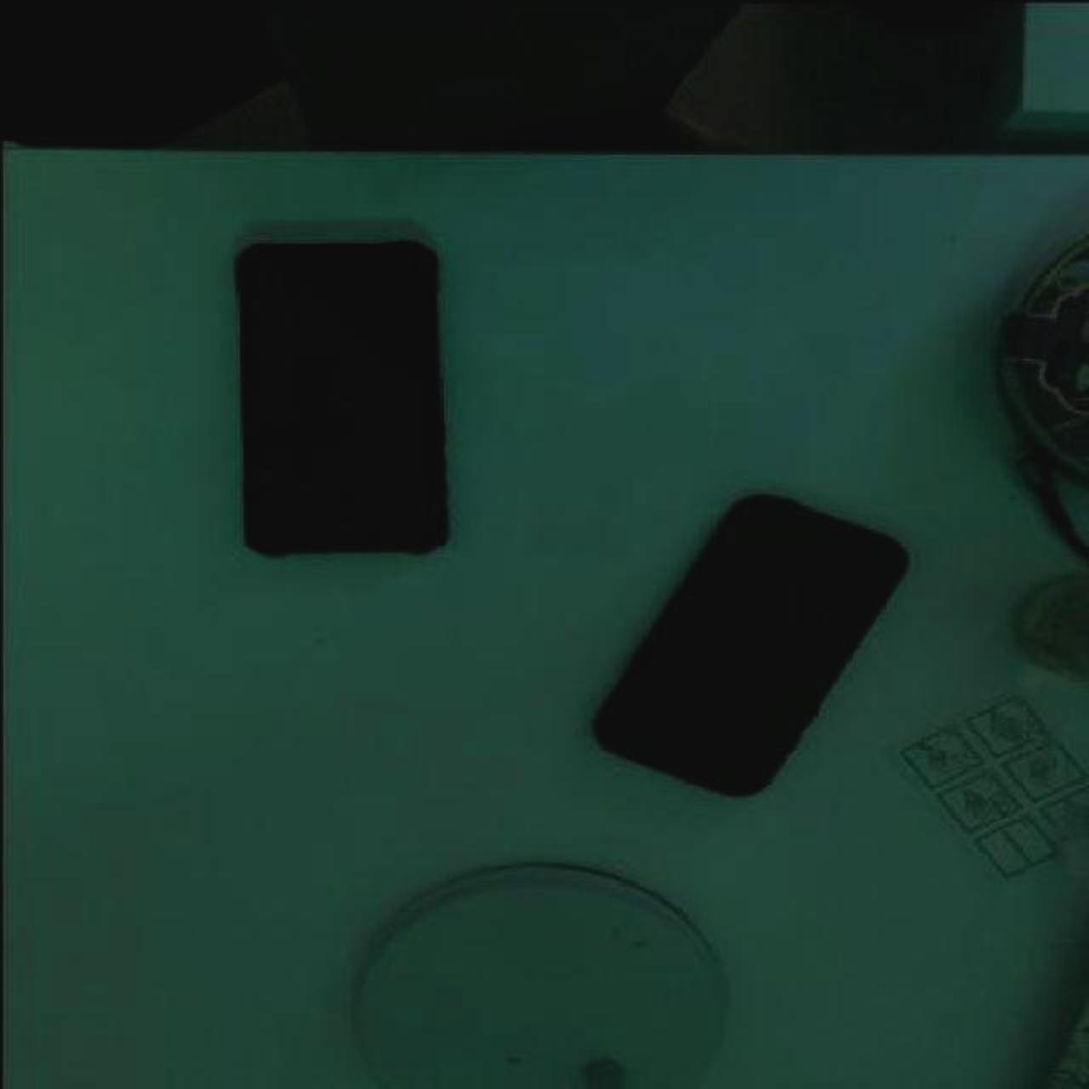phone: (588, 493, 913, 800), (220, 236, 448, 556)
